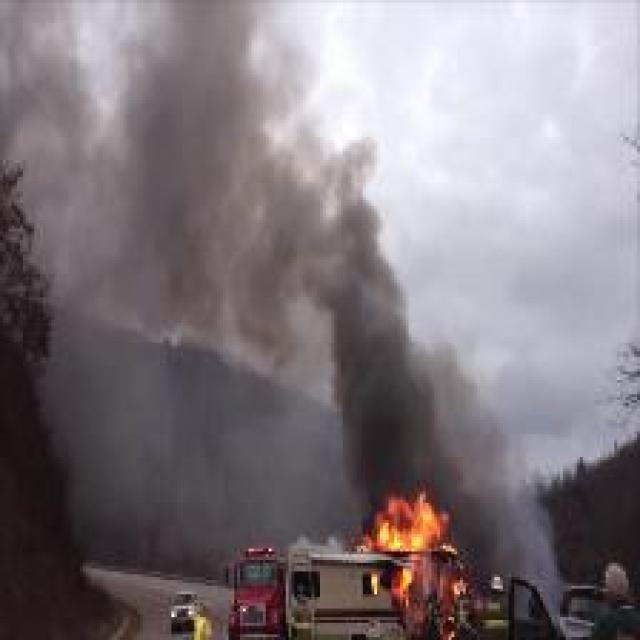fire: (335, 482, 461, 630)
smoke: (0, 1, 494, 475)
